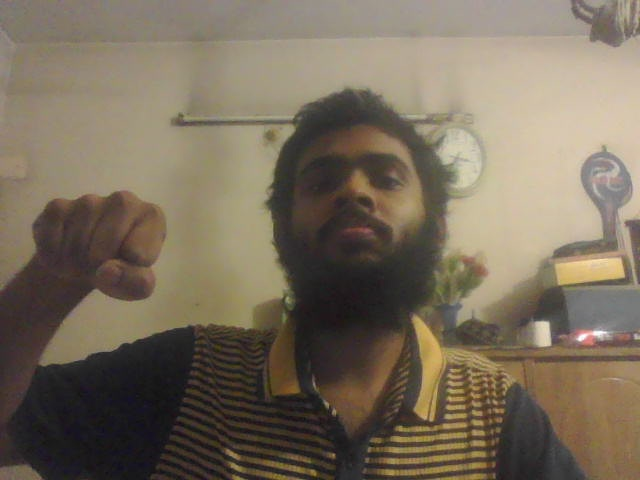Yes: (29, 192, 179, 306)
